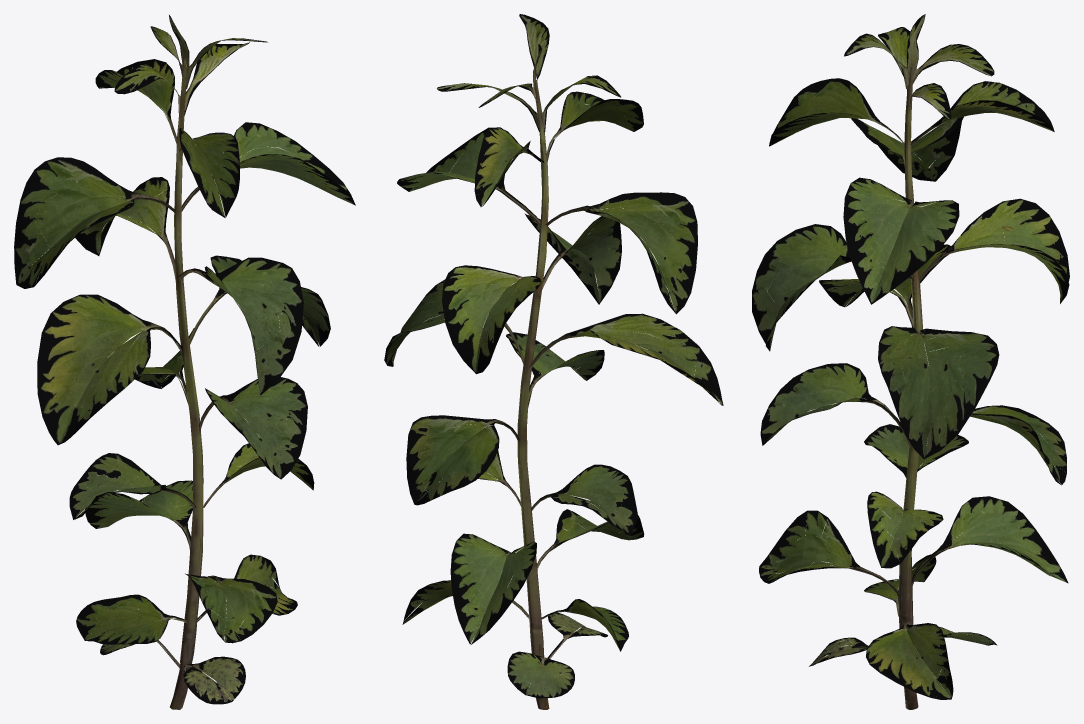
Rendered from nettle_plant_4.gltf.
3 views of the same model, side by side, from view 1: azimuth 30°, elevation 25°; view 2: azimuth 150°, elevation 25°; view 3: azimuth 270°, elevation 25° (orthographic). The views are drawn at different scales.
Visible parts, largest first — view 1: nettle_plant_tall_a_LOD0; view 2: nettle_plant_tall_a_LOD0; view 3: nettle_plant_tall_a_LOD0.
Part boxes in pixels (bbox=[...]): nettle_plant_tall_a_LOD0: bbox=[14, 15, 355, 709]; nettle_plant_tall_a_LOD0: bbox=[384, 14, 723, 709]; nettle_plant_tall_a_LOD0: bbox=[752, 14, 1069, 709].
Size of the model in its own units: 0.1036 by 0.2167 by 0.0901.
Materials: 1 (1 with a texture image).
